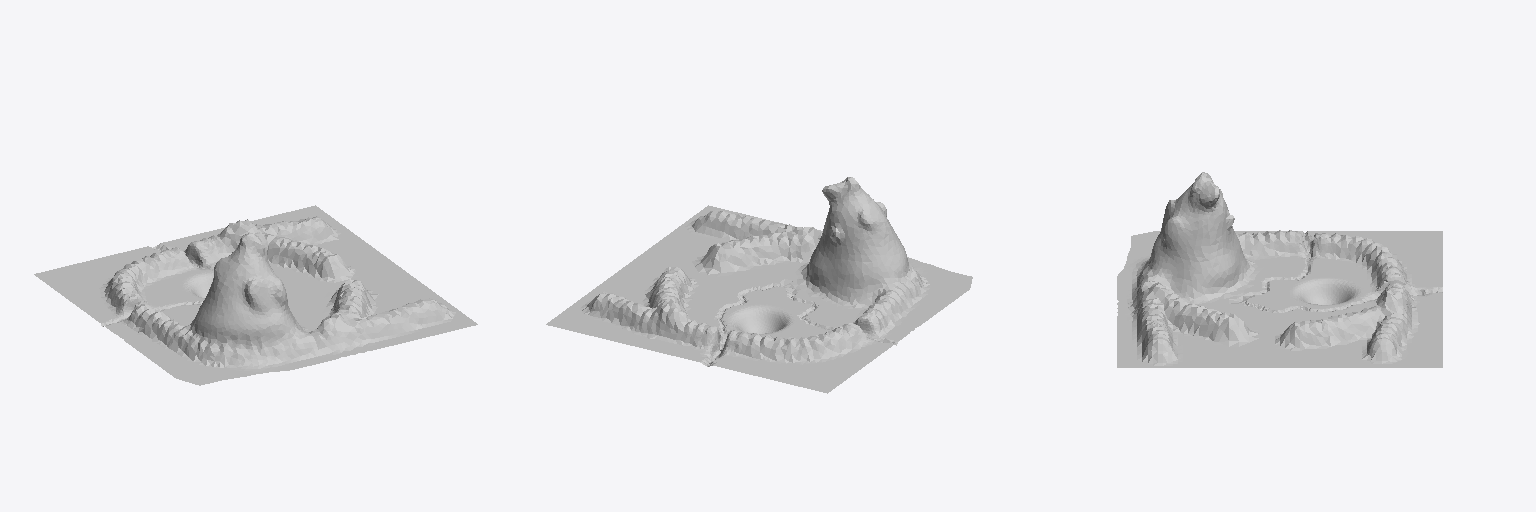
The model's file is Valley.obj.
3 views of the same model, side by side, from view 1: azimuth 30°, elevation 25°; view 2: azimuth 150°, elevation 25°; view 3: azimuth 270°, elevation 25° (orthographic).
Visible parts, largest first — view 1: Plane; view 2: Plane; view 3: Plane.
Part boxes in pixels (x1,y1,x2,y2): Plane: (34,205,477,385); Plane: (546,177,972,393); Plane: (1117,172,1442,367).
Bounding box in the file's own units: 2000 × 830 × 2000.